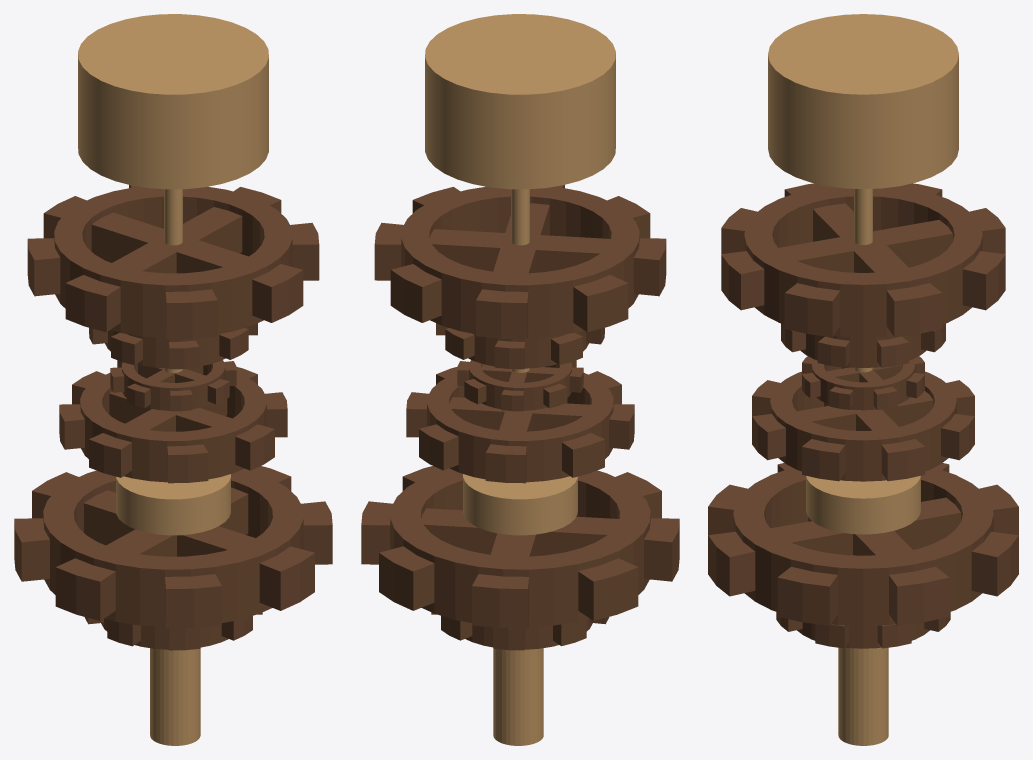
The model's file is City_Middle_tower.fbx.
The picture shows the model from 3 angles, left to right: view 1: azimuth 30°, elevation 25°; view 2: azimuth 150°, elevation 25°; view 3: azimuth 270°, elevation 25°; orthographic projection.
Visible parts, largest first — view 1: Cylinder.104, Cylinder.110, Cylinder.107, Cylinder.106, Cylinder.109, Cylinder.338, Cylinder.108, Cylinder.105; view 2: Cylinder.104, Cylinder.110, Cylinder.107, Cylinder.106, Cylinder.109, Cylinder.338, Cylinder.108, Cylinder.105; view 3: Cylinder.104, Cylinder.107, Cylinder.110, Cylinder.106, Cylinder.109, Cylinder.338, Cylinder.108, Cylinder.105.
Part boxes in pixels (x1=…): Cylinder.104: x1=78, y1=14, x2=268, y2=535; Cylinder.110: x1=14, y1=466, x2=332, y2=628; Cylinder.107: x1=27, y1=185, x2=319, y2=338; Cylinder.106: x1=59, y1=366, x2=287, y2=483; Cylinder.109: x1=110, y1=360, x2=236, y2=411; Cylinder.338: x1=150, y1=648, x2=200, y2=745; Cylinder.108: x1=89, y1=323, x2=257, y2=369; Cylinder.105: x1=84, y1=612, x2=262, y2=650; Cylinder.104: x1=425, y1=14, x2=615, y2=535; Cylinder.110: x1=361, y1=466, x2=679, y2=628; Cylinder.107: x1=374, y1=185, x2=666, y2=338; Cylinder.106: x1=406, y1=366, x2=634, y2=483; Cylinder.109: x1=457, y1=360, x2=583, y2=411; Cylinder.338: x1=493, y1=648, x2=543, y2=745; Cylinder.108: x1=436, y1=323, x2=604, y2=369; Cylinder.105: x1=431, y1=612, x2=609, y2=650; Cylinder.104: x1=768, y1=14, x2=958, y2=534; Cylinder.107: x1=721, y1=183, x2=1005, y2=337; Cylinder.110: x1=708, y1=463, x2=1018, y2=626; Cylinder.106: x1=752, y1=371, x2=974, y2=481; Cylinder.109: x1=802, y1=356, x2=924, y2=410; Cylinder.338: x1=838, y1=647, x2=888, y2=745; Cylinder.108: x1=781, y1=323, x2=945, y2=367; Cylinder.105: x1=776, y1=612, x2=950, y2=648.
Size of the model in its own units: 10651 by 25713 by 10651.
